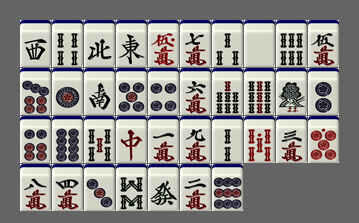0m: (148, 20, 179, 67)
0p: (308, 116, 339, 163)
0s: (244, 116, 275, 163)
1m: (148, 116, 179, 163)
1p: (52, 68, 83, 115)
1s: (276, 68, 307, 115)
1z: (116, 20, 147, 67)
2m: (180, 164, 211, 211)
2p: (308, 68, 339, 115)
2s: (212, 116, 243, 163)
2z: (84, 68, 115, 115)
3m: (276, 116, 307, 163)
3p: (84, 164, 115, 211)
3s: (212, 20, 243, 67)
3z: (20, 20, 51, 67)
4m: (52, 164, 83, 211)
4p: (148, 68, 179, 115)
4s: (52, 20, 83, 67)
4z: (84, 20, 115, 67)
5m: (308, 20, 339, 67)
5p: (116, 68, 147, 115)
5s: (84, 116, 115, 163)
5z: (244, 20, 275, 67)
6m: (180, 68, 211, 115)
6p: (20, 116, 51, 163)
6s: (276, 20, 307, 67)
6z: (148, 164, 179, 211)
7m: (180, 20, 211, 67)
7p: (20, 68, 51, 115)
7s: (212, 68, 243, 115)
7z: (116, 116, 147, 163)
8m: (20, 164, 51, 211)
8p: (52, 116, 83, 163)
8s: (116, 164, 147, 211)
9m: (180, 116, 211, 163)
9p: (212, 164, 243, 211)
9s: (244, 68, 275, 115)
